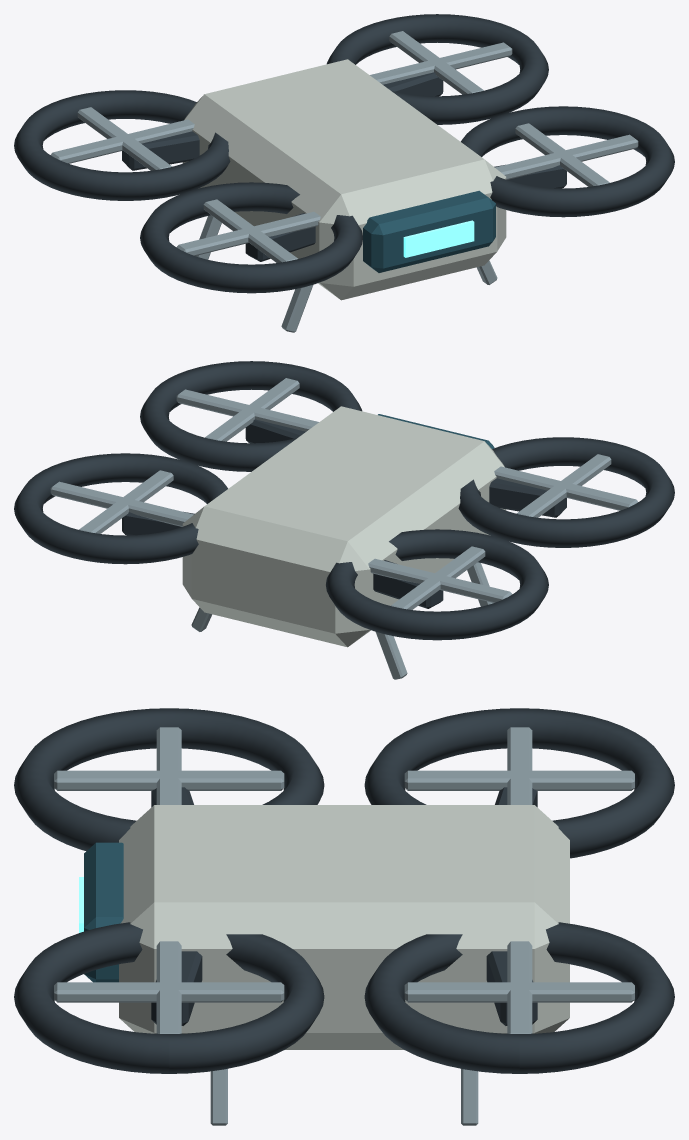
File: service-drone.lod0.glb
3 renders of one model, top to bottom at view 1: azimuth 30°, elevation 25°; view 2: azimuth 150°, elevation 25°; view 3: azimuth 270°, elevation 25°, orthographic. The views are drawn at different scales.
Parts seen in each view (by area): view 1: structure, rotor_lf, rotor_rf, rotor_lb, rotor_rb; view 2: structure, rotor_lb, rotor_rb, rotor_lf, rotor_rf; view 3: structure, rotor_rb, rotor_rf, rotor_lb, rotor_lf.
Boxes of the visible parts, x1,y1,x2,y2 form: structure: (14,14,674,332); rotor_lf: (176,199,320,262); rotor_rf: (495,123,638,186); rotor_lb: (51,107,194,170); rotor_rb: (370,31,512,94); structure: (14,361,674,679); rotor_lb: (368,546,512,609); rotor_rb: (50,470,193,533); rotor_lf: (494,454,637,517); rotor_rf: (176,378,318,441); structure: (14,708,674,1125); rotor_rb: (404,941,634,1033); rotor_rf: (54,941,284,1033); rotor_lb: (404,727,634,804); rotor_lf: (54,727,284,804).
Size of the model in its own units: 3.24 by 0.9049 by 2.64.
